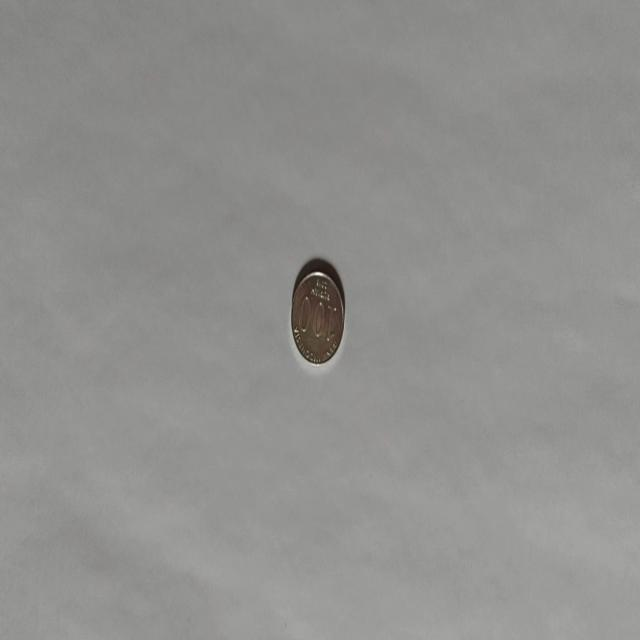seratus rupiah: (290, 268, 344, 366)
